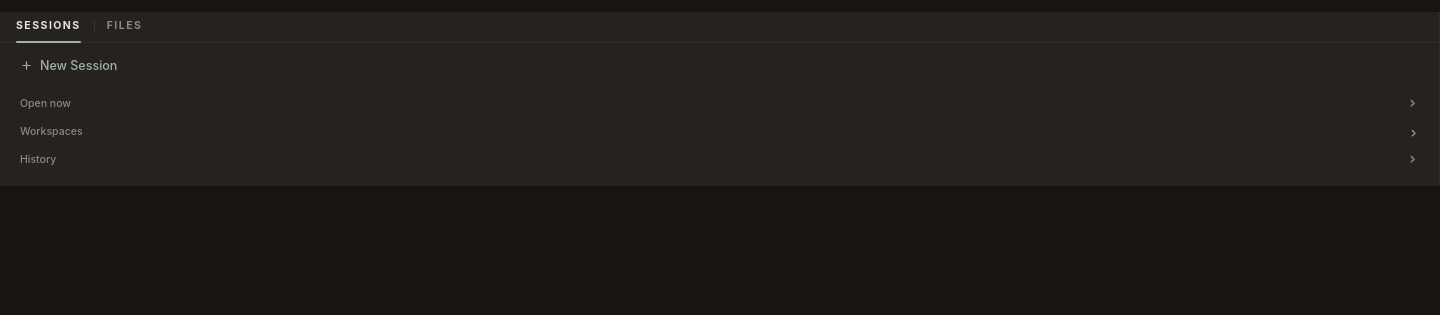
Scenario: FileSidebar tabs and sessions pane › nests each workspace's sessions under its own dropdown
This screenshot has width=1440, height=315.
Click the button with class "section-toggle" showing "Workspaces" at (51, 132), box [12,119,1377,144]
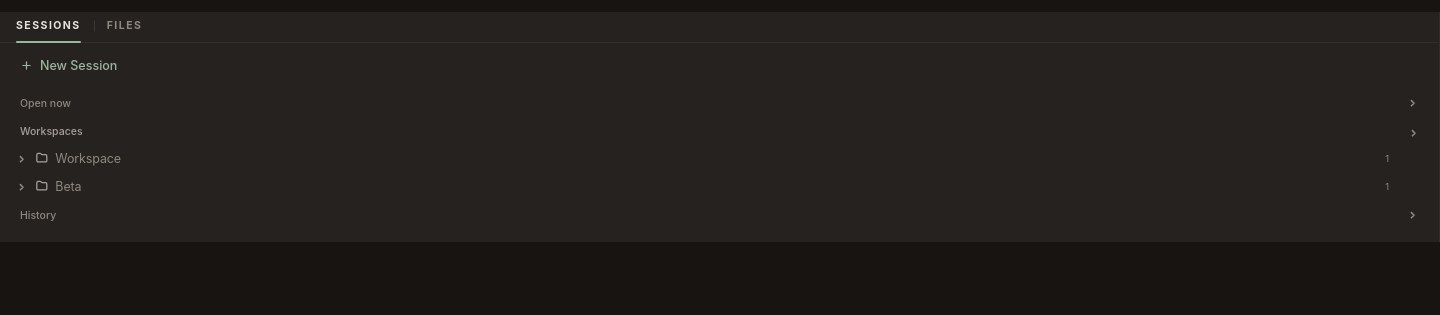
Check: the number of buttons with class "sessions-project-toggle" is 2
Click the button with class "sessions-project-toggle" showing "Workspace 1" at (88, 158), box [10,144,1397,172]
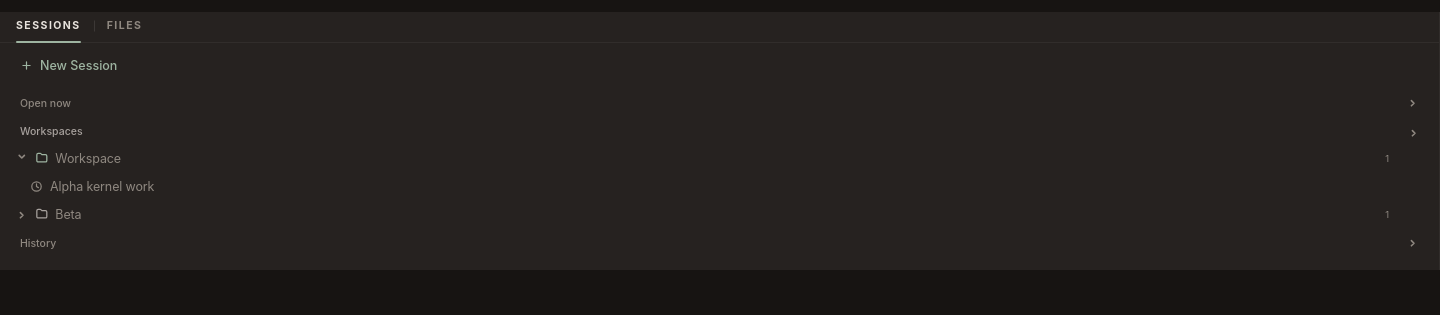
Check: the element with class "sessions-project-sessions" does not show "Beta setup"
Check: the element with class "sessions-project-sessions" reads "Alpha kernel work", box [50,178,154,194]
Click the button with class "sessions-project-toggle" showing "Beta 1" at (23, 214), box [10,200,1397,228]
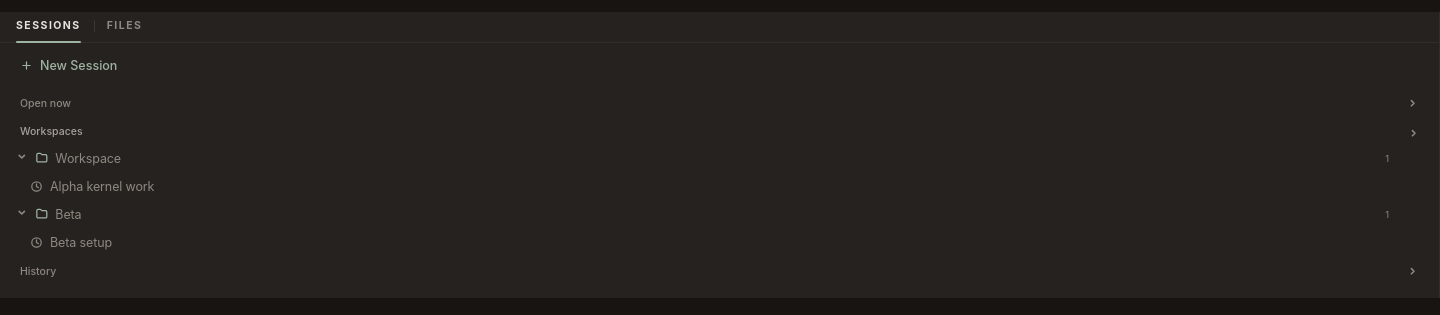
Check: the element with class "sessions-project-sessions" reads "Beta setup", box [50,234,112,250]
